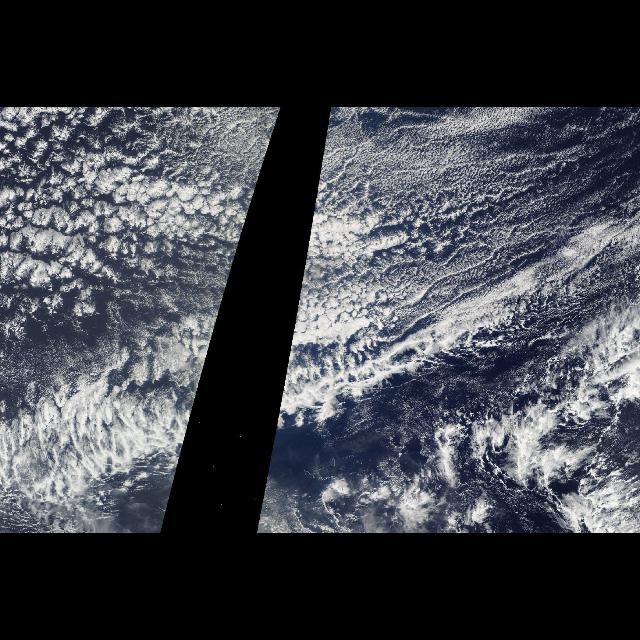Fish: (15, 259, 236, 505), (260, 259, 432, 505)
Gravel: (2, 108, 218, 288)
Sugar: (314, 121, 592, 207), (220, 121, 278, 207)
